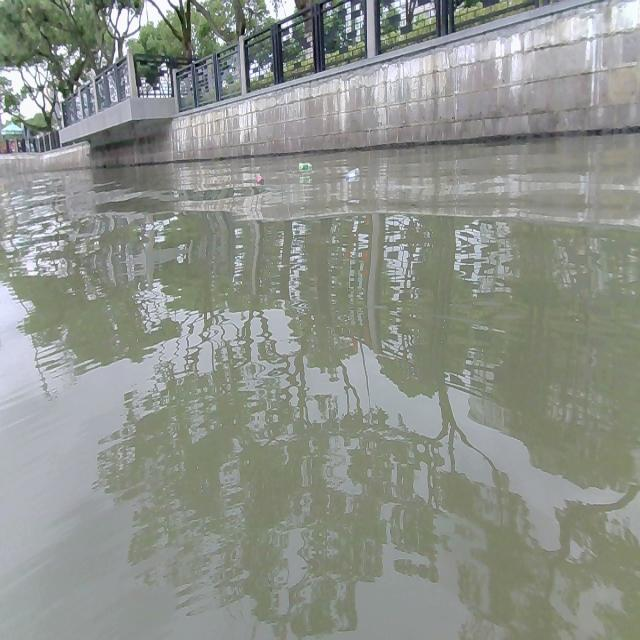bottle: (346, 168, 358, 182), (297, 161, 311, 173), (254, 171, 264, 185)
